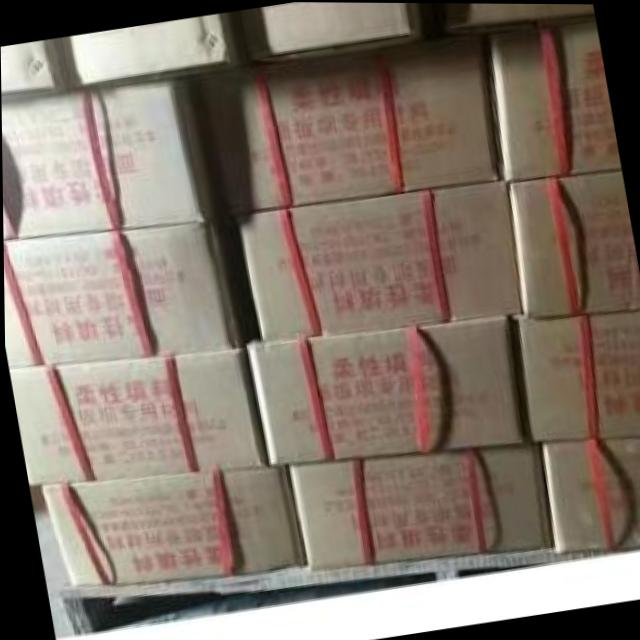box: (187, 29, 507, 215), (236, 179, 521, 338), (248, 312, 535, 467), (3, 214, 260, 368), (8, 342, 267, 486), (1, 79, 215, 244), (286, 450, 554, 569), (41, 466, 305, 586), (490, 16, 617, 177), (507, 166, 640, 313), (514, 310, 640, 441), (60, 10, 248, 90), (536, 434, 640, 552), (245, 2, 431, 67), (431, 3, 593, 39), (1, 40, 70, 100)
